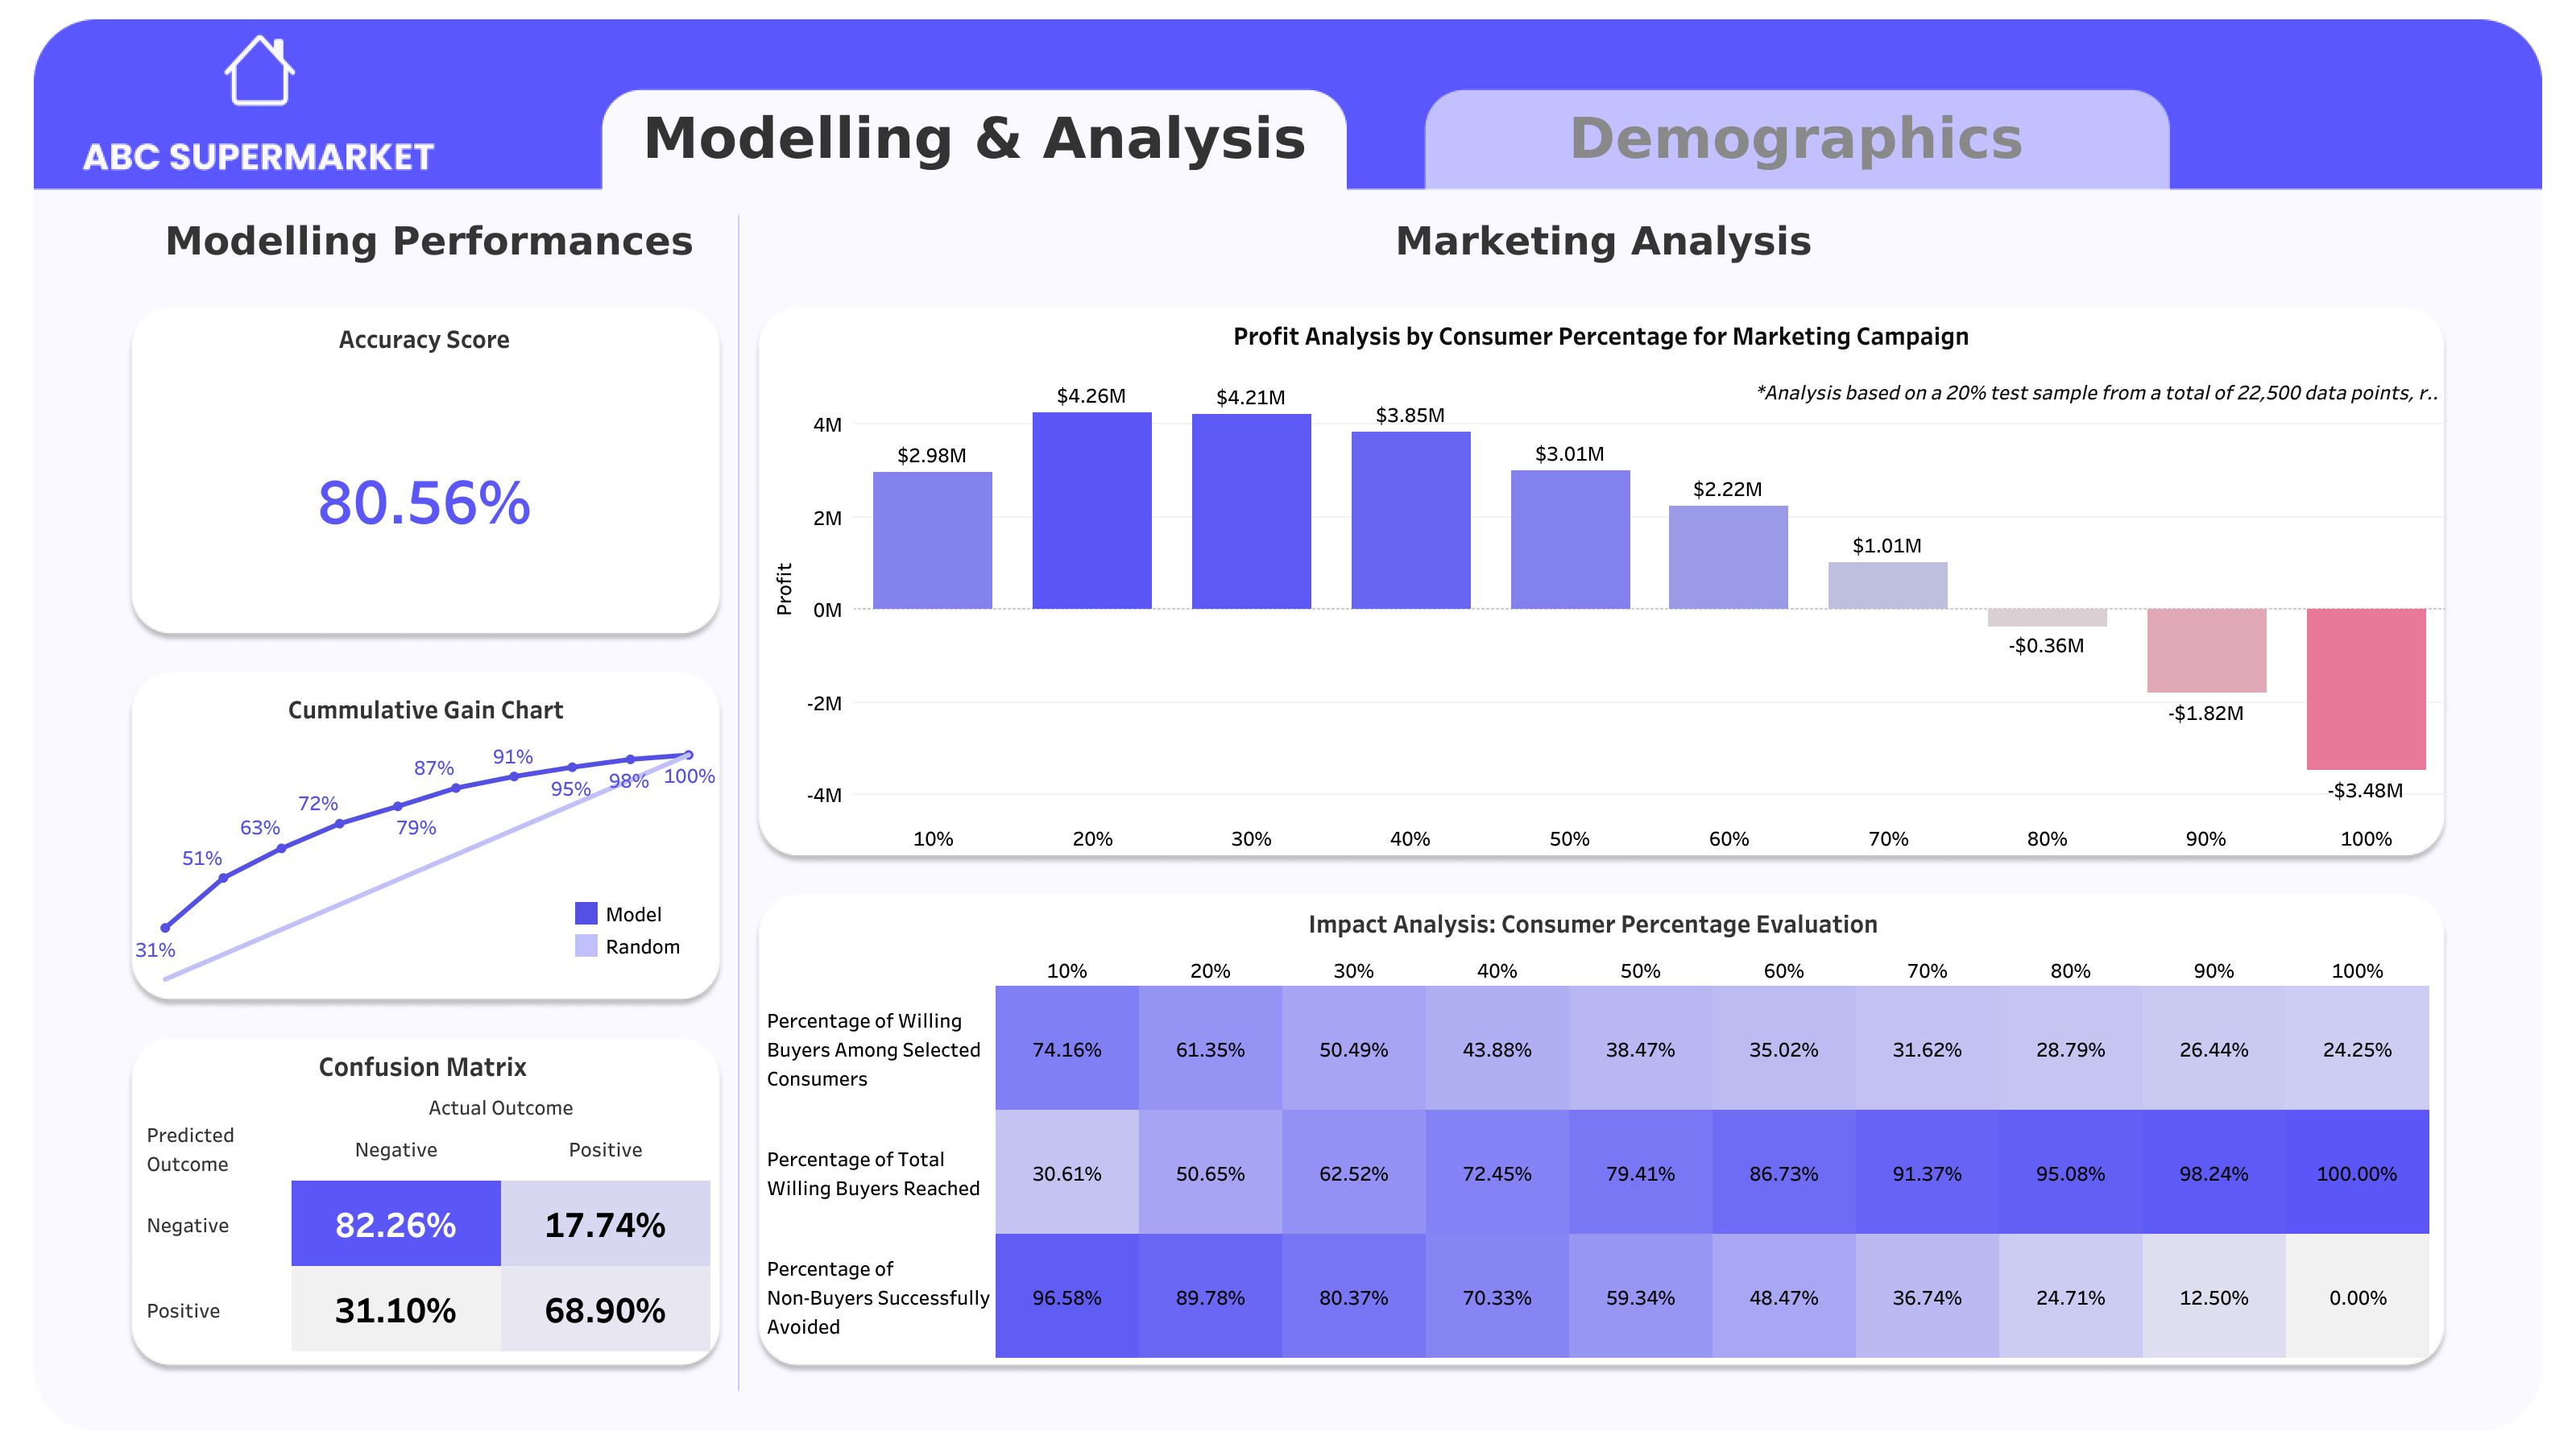

Layout of this report page (visuals, bound fields, positions):
{"tool":"tableau","page":{"name":"Modelling & Analysis","canvas":[1600,900],"ordinal":1},"visuals":[{"type":"image","param":"/Users/gahooshao/Downloads/Dashboard Background 4.jpg","box":[8,8,1584,884]},{"type":"dashboard-object","box":[374,55,462,62]},{"type":"dashboard-object","box":[884,55,462,62]},{"type":"text","box":[86,120,361,59]},{"type":"text","box":[476,120,1039,58]},{"type":"worksheet","title":"Profit Analysis","mark":"Bar","rows":["Calculation_2049419354371715117"],"cols":["Calculation_2049419354708742208"],"box":[470,191,1048,338]},{"type":"worksheet","title":"Accuracy Score","mark":"Automatic","box":[84,193,359,198]},{"type":"text","box":[1087,226,430,34]},{"type":"worksheet","title":"Cummulative Gain Chart","mark":"Line","rows":["Calculation_2049419354366332969","Calculation_2049419354367795242"],"cols":["Calculation_2049419354708742208"],"box":[84,423,361,200]},{"type":"worksheet","title":"Indicators","mark":"Square","cols":["Calculation_2049419354708742208"],"box":[470,556,1038,287]},{"type":"legend","title":"Cummulative Gain Chart","param":"[federated.1uxnbht12smxv71eqkde01bxvixo].[:Measure Names]","box":[354,557,82,52]},{"type":"worksheet","title":"Confusion Matrix","mark":"Square","rows":["Calculation_2049419354025992209"],"cols":["Actual Outcome"],"box":[85,644,356,195]}]}

Visuals, with their boxes in screenshot pixels (x1, y1, x2, y2), scaled from the page's 1600x900 canvas onto the 2576x1448 screenshot:
image: 13,13,2563,1435
dashboard-object: 603,89,1346,188
dashboard-object: 1423,89,2167,188
text: 139,193,719,288
text: 766,193,2439,287
"Profit Analysis" worksheet (Bar marks): 756,308,2444,851
"Accuracy Score" worksheet: 135,311,713,629
text: 1750,363,2442,418
"Cummulative Gain Chart" worksheet (Line marks): 135,681,716,1003
"Indicators" worksheet (Square marks): 756,895,2428,1356
"Cummulative Gain Chart" legend: 570,896,702,980
"Confusion Matrix" worksheet (Square marks): 137,1036,710,1350
